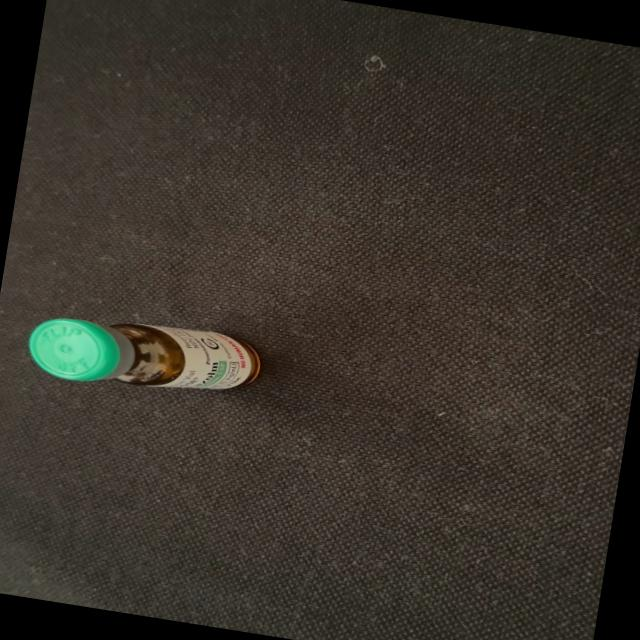midazolm: (28, 304, 262, 408)
